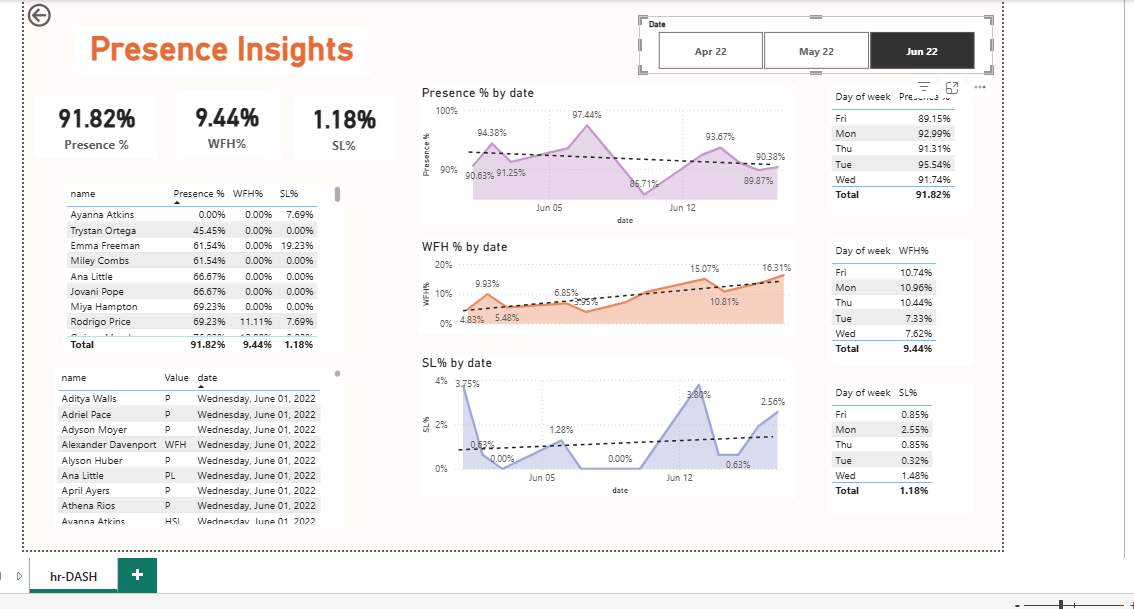

Layout of this report page (visuals, bound fields, positions):
{"tool":"powerbi","page":{"name":"hr-DASH","canvas":[1280,720],"ordinal":0},"visuals":[{"type":"card","fields":{"Values":["Measure Table.SL%"]},"box":[352.7,119,133.7,89.6],"z":0},{"type":"card","fields":{"Values":["Measure Table.Presence %"]},"box":[14.7,119,161.6,88.2],"z":1000},{"type":"slicer","fields":{"Values":["final data.month"]},"box":[805.2,20.6,462.9,76.4],"z":2000},{"type":"card","fields":{"Values":["Measure Table.WFH%"]},"box":[194,117.6,144,88.2],"z":3000},{"type":"tableEx","fields":{"Values":["final data.name","Measure Table.Presence %","Measure Table.WFH%","Measure Table.SL%"]},"box":[50,238,370.3,226.3],"z":4000},{"type":"textbox","box":[63.8,33.6,389.7,63.8],"z":5000},{"type":"actionButton","box":[0,0,100,40],"z":6000},{"type":"tableEx","fields":{"Values":["final data.name","final data.Value","final data.date"]},"box":[38.2,479,382,211.6],"z":7000},{"type":"areaChart","fields":{"Y":["Measure Table.Presence %"],"Category":["final data.date"]},"box":[515.8,111.7,493.7,188.1],"z":8000},{"type":"areaChart","title":"WFH % by date","fields":{"Category":["final data.date"],"Y":["Measure Table.WFH%"]},"box":[515.8,313,493.7,124.9],"z":9000},{"type":"areaChart","fields":{"Category":["final data.date"],"Y":["Measure Table.SL%"]},"box":[515.8,464.3,493.7,188.1],"z":10000},{"type":"tableEx","fields":{"Values":["final data.Day of week","Measure Table.Presence %"]},"box":[1050.6,111.7,191,167.5],"z":10001},{"type":"tableEx","fields":{"Values":["final data.Day of week","Measure Table.WFH%"]},"box":[1050.6,313,191,166],"z":10002},{"type":"tableEx","fields":{"Values":["final data.Day of week","Measure Table.SL%"]},"box":[1050.6,498.1,191,173.4],"z":10003}]}

Visuals, with their boxes on the page's 1280x720 design canvas (x1, y1, x2, y2). These are canvas units, not pixel positions in the 1134x609 screenshot, which may show the page scaled, cropped or inside an application window:
card - Measure Table.SL%: [left=353, top=119, right=486, bottom=209]
card - Measure Table.Presence %: [left=15, top=119, right=176, bottom=207]
slicer - final data.month: [left=805, top=21, right=1268, bottom=97]
card - Measure Table.WFH%: [left=194, top=118, right=338, bottom=206]
tableEx - final data.name x Measure Table.Presence %: [left=50, top=238, right=420, bottom=464]
textbox: [left=64, top=34, right=454, bottom=97]
actionButton: [left=0, top=0, right=100, bottom=40]
tableEx - final data.name x final data.Value: [left=38, top=479, right=420, bottom=691]
areaChart - Measure Table.Presence % x final data.date: [left=516, top=112, right=1010, bottom=300]
"WFH % by date" areaChart: [left=516, top=313, right=1010, bottom=438]
areaChart - final data.date x Measure Table.SL%: [left=516, top=464, right=1010, bottom=652]
tableEx - final data.Day of week x Measure Table.Presence %: [left=1051, top=112, right=1242, bottom=279]
tableEx - final data.Day of week x Measure Table.WFH%: [left=1051, top=313, right=1242, bottom=479]
tableEx - final data.Day of week x Measure Table.SL%: [left=1051, top=498, right=1242, bottom=672]
